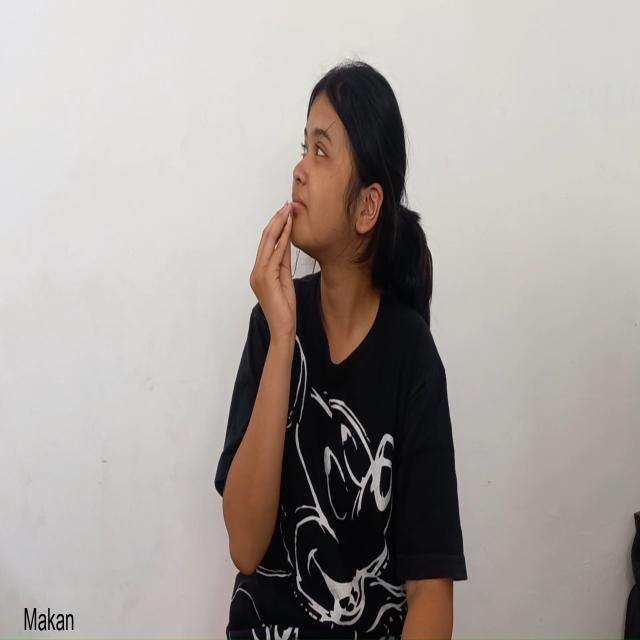Makan -BISINDO-: (247, 56, 395, 475)
